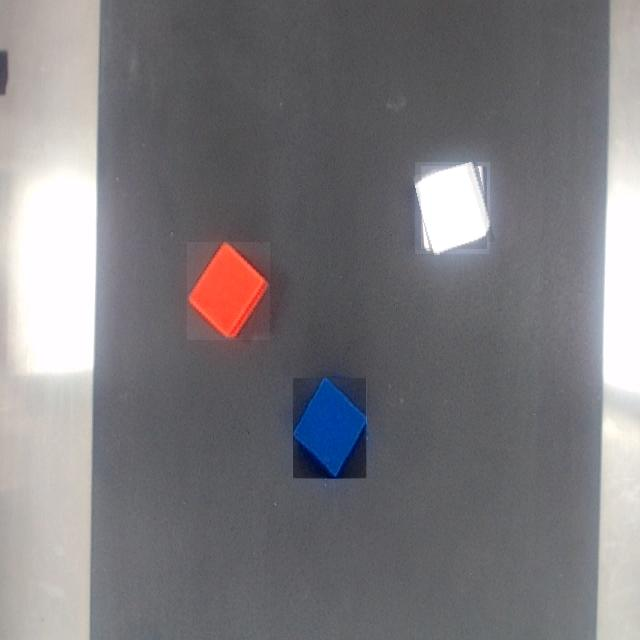Azul: (294, 378, 366, 478)
Blanco: (415, 163, 490, 254)
Rojo: (187, 242, 270, 340)
